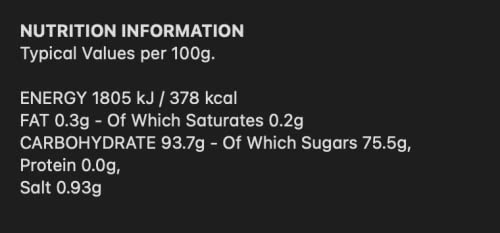-: (211, 143, 217, 145), (96, 120, 101, 122)
/: (159, 91, 165, 107)
0.0g,: (82, 158, 120, 174)
0.2g: (269, 114, 303, 130)
0.3g: (55, 114, 89, 130)
0.93g: (57, 181, 101, 197)
100g.: (172, 46, 214, 63)
1805: (93, 91, 131, 104)
378: (170, 91, 199, 104)
75.59,: (363, 136, 410, 152)
CARBOHYDRATE: (20, 136, 155, 149)
ENERGY: (21, 91, 86, 104)
FAT: (21, 114, 49, 127)
INFORMATION: (122, 24, 243, 37)
NUTRITION: (21, 24, 116, 37)
Of: (108, 113, 126, 127), (223, 136, 241, 149)
Protein: (21, 158, 75, 171)
Salt: (21, 180, 51, 194)
Saturates: (186, 114, 263, 127)
Sugars: (302, 136, 357, 152)
Typical: (20, 46, 76, 63)
Values: (82, 46, 135, 59)
Which: (131, 113, 180, 127), (247, 136, 296, 149)
kJ: (137, 91, 153, 104)
kcal: (206, 91, 236, 104)
per: (141, 50, 167, 62)
